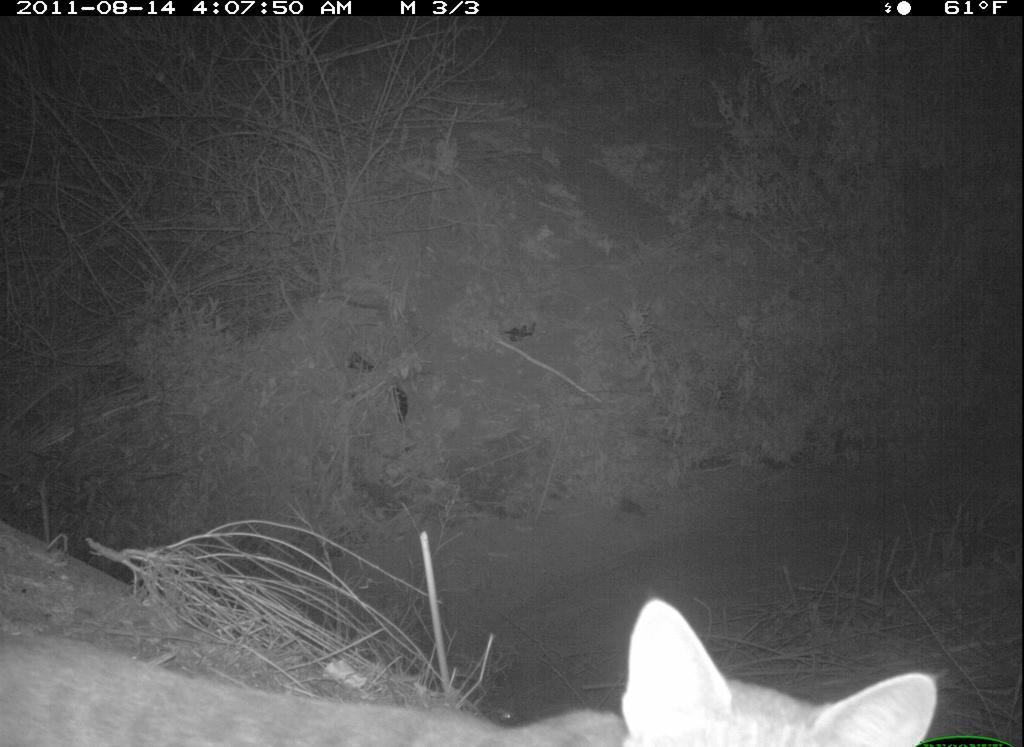cat: (2, 589, 949, 747)
